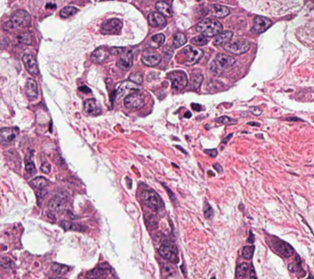nucleus: (210, 53, 235, 74), (140, 188, 163, 209), (182, 45, 203, 65), (158, 242, 177, 262), (271, 238, 292, 256), (168, 70, 187, 89), (124, 91, 144, 109), (224, 40, 249, 54), (22, 53, 38, 74), (87, 263, 111, 277), (117, 48, 132, 69), (48, 193, 66, 210), (91, 46, 109, 62), (213, 31, 232, 46), (141, 52, 160, 66), (83, 99, 100, 114), (0, 128, 17, 143), (26, 78, 37, 99), (148, 34, 164, 48), (235, 263, 249, 278), (173, 32, 186, 47), (161, 264, 176, 277), (16, 32, 32, 44), (191, 72, 203, 88), (30, 177, 47, 188), (51, 263, 68, 274), (191, 34, 207, 45), (36, 188, 46, 204), (61, 221, 81, 229), (216, 116, 235, 124), (203, 201, 212, 217), (25, 160, 35, 174), (242, 246, 253, 258), (129, 73, 142, 83), (1, 256, 12, 267), (110, 47, 123, 55), (40, 162, 50, 172), (250, 106, 261, 115), (222, 134, 232, 143), (204, 149, 216, 156), (191, 103, 201, 110), (79, 86, 90, 92), (213, 164, 221, 172), (248, 122, 258, 125), (185, 112, 190, 117)
